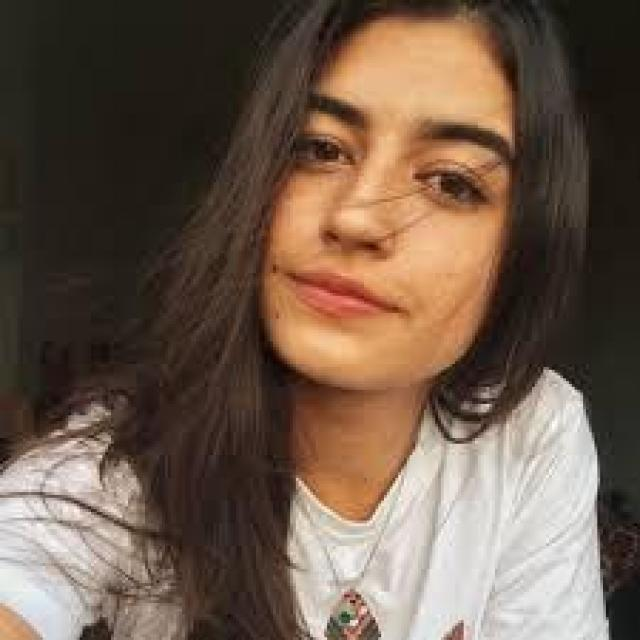person: (34, 0, 612, 637)
